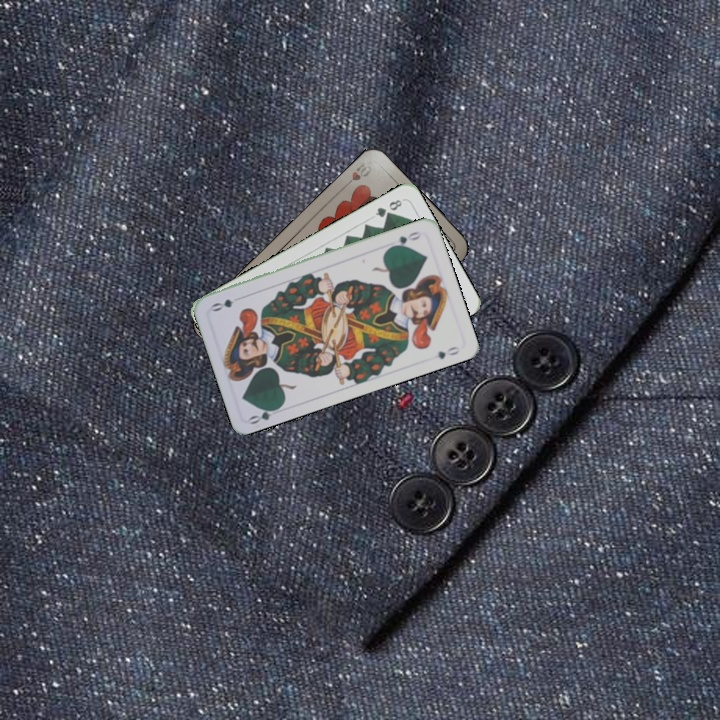G8: (371, 195, 405, 220)
GO: (245, 402, 284, 427), (386, 227, 424, 250)
H10: (339, 157, 375, 191)
